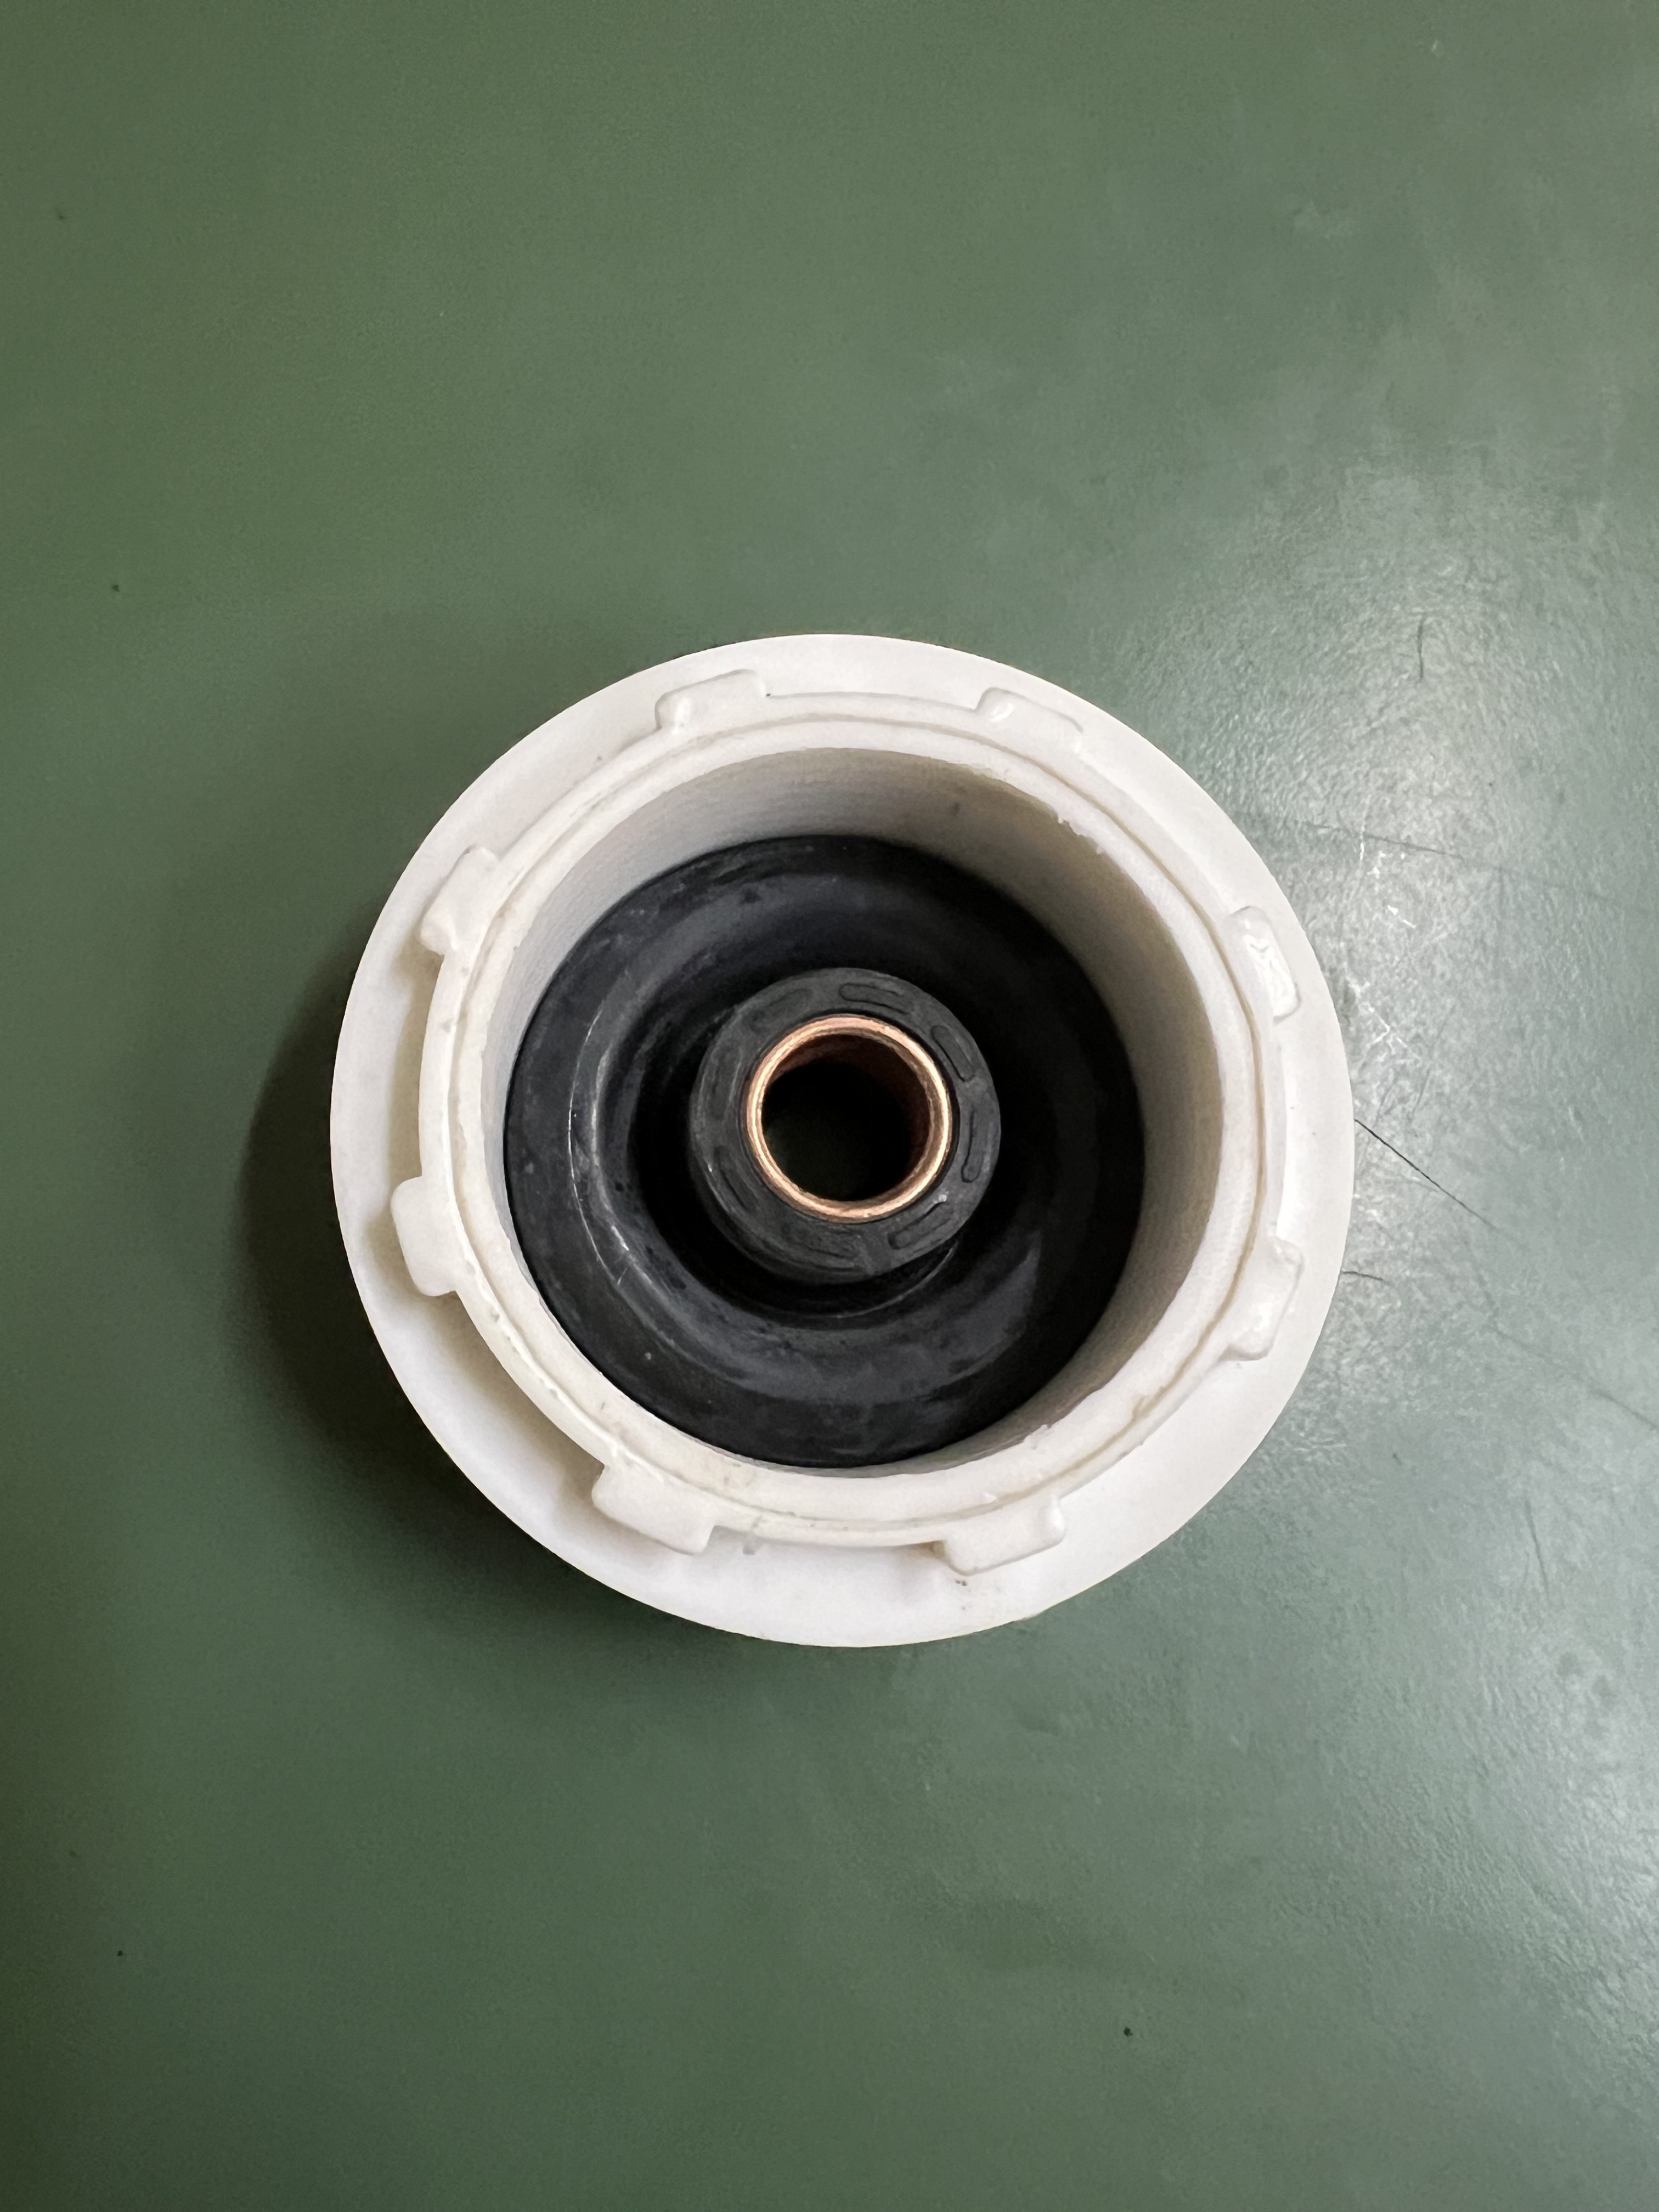lever: (312, 629, 1363, 1670)
